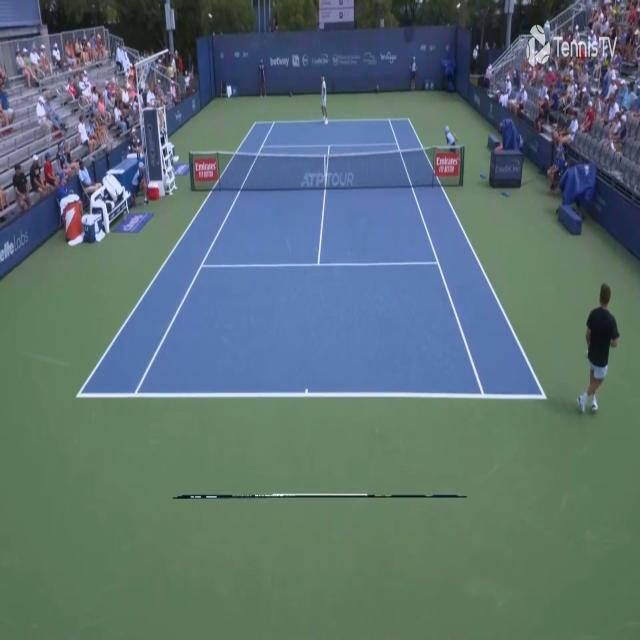tennis-player: (576, 278, 621, 417), (318, 74, 329, 126)
